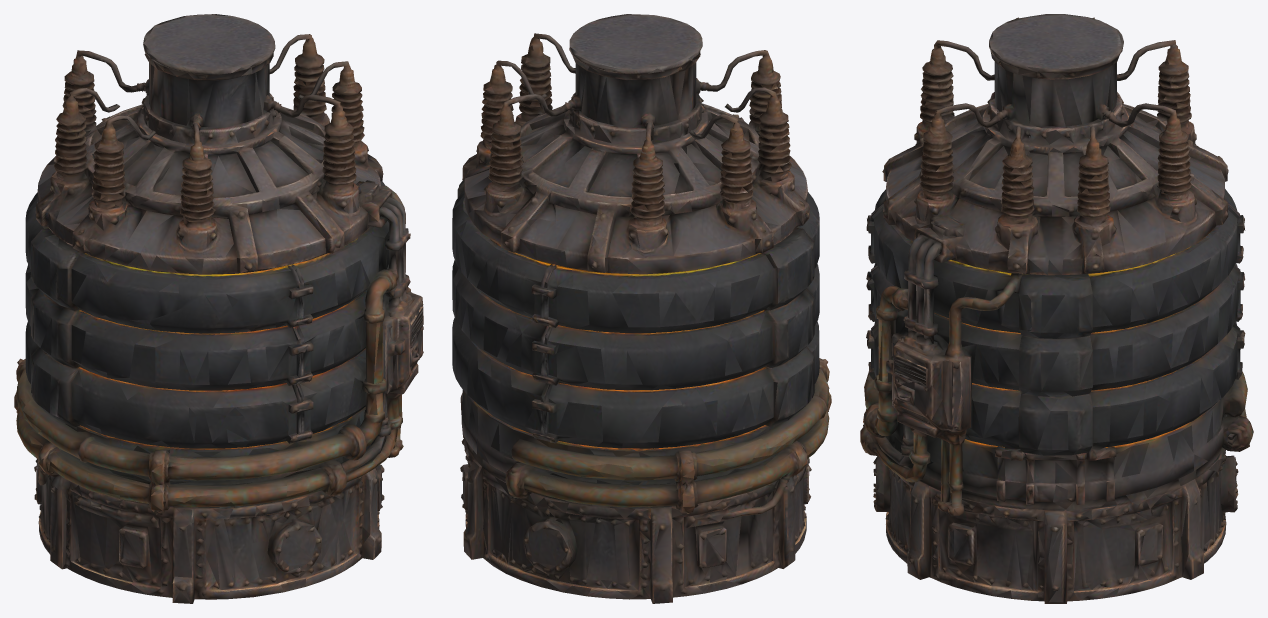
The model's file is ReactorJacket.glb.
3 views of the same model, side by side, from view 1: azimuth 30°, elevation 25°; view 2: azimuth 150°, elevation 25°; view 3: azimuth 270°, elevation 25° (orthographic).
Parts seen in each view (by area): view 1: tripo_node_3993e64c-002a-4d7a-8352-461c8b2b30d4; view 2: tripo_node_3993e64c-002a-4d7a-8352-461c8b2b30d4; view 3: tripo_node_3993e64c-002a-4d7a-8352-461c8b2b30d4.
Boxes of the visible parts, x1,y1,x2,y2 form: tripo_node_3993e64c-002a-4d7a-8352-461c8b2b30d4: (14,14,423,603); tripo_node_3993e64c-002a-4d7a-8352-461c8b2b30d4: (452,14,831,603); tripo_node_3993e64c-002a-4d7a-8352-461c8b2b30d4: (860,14,1253,603).
Bounding box in the file's own units: 0.7049 × 0.9786 × 0.7154.
1 material, 1 textured.
